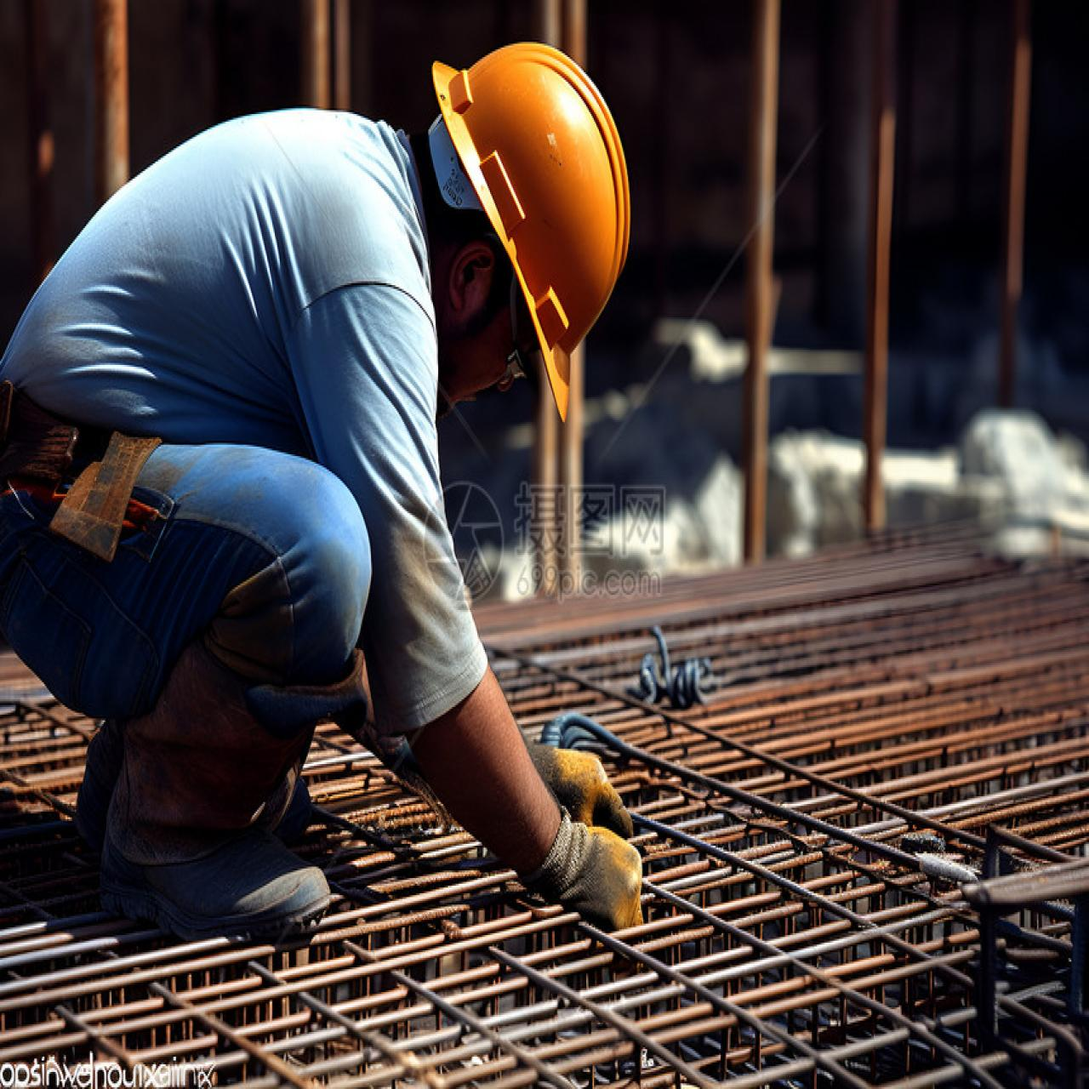NO_Safety_Vest: (23, 91, 443, 570)
Person: (0, 9, 664, 974)
